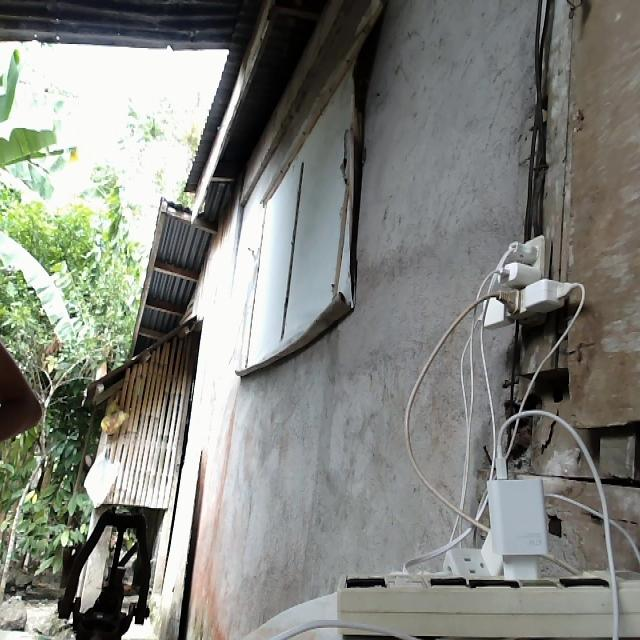-: (473, 232, 584, 325)
